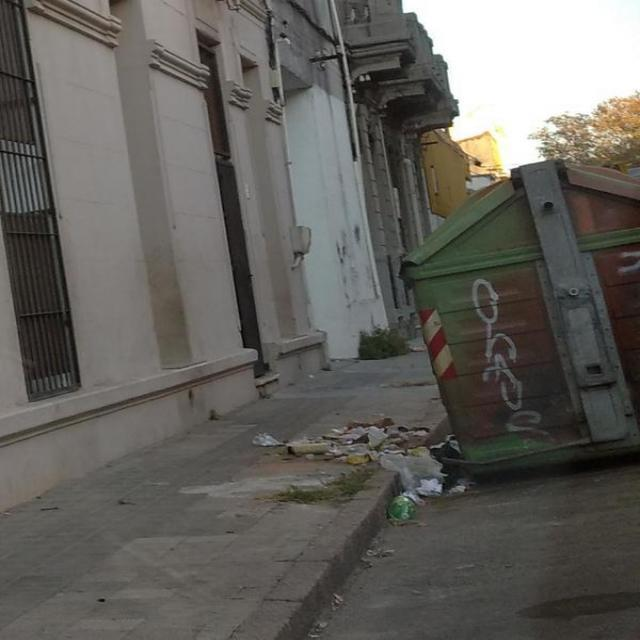garbage: (335, 414, 460, 492), (242, 410, 333, 451), (386, 492, 424, 524)
